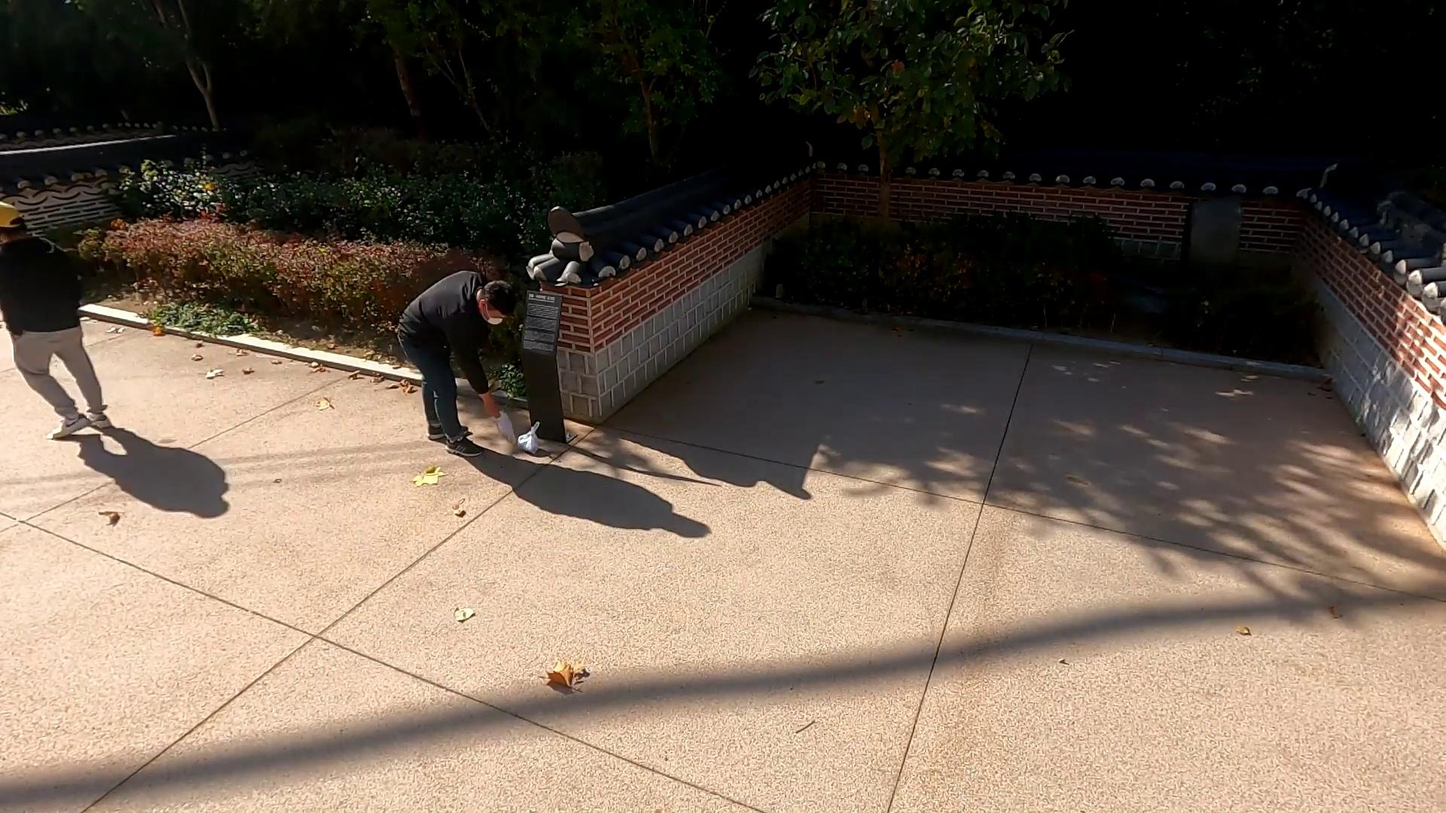person: (0, 203, 130, 449), (388, 269, 525, 467)
trash: (491, 407, 521, 452), (516, 418, 546, 457)
